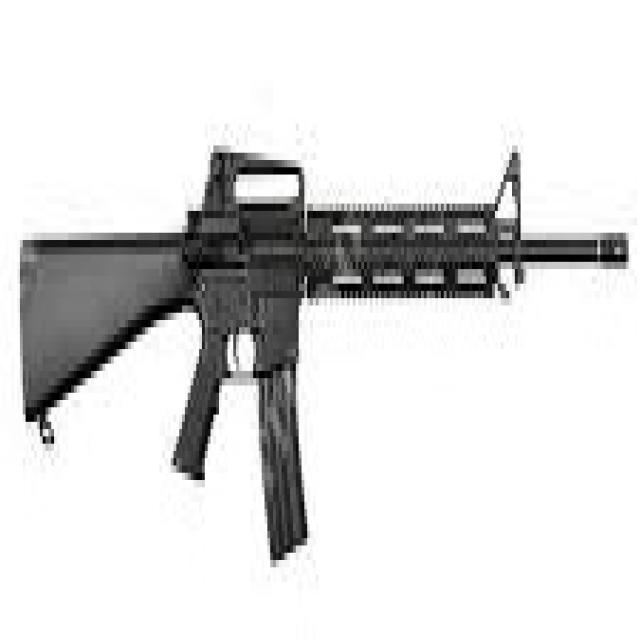rifle: (15, 137, 636, 581)
